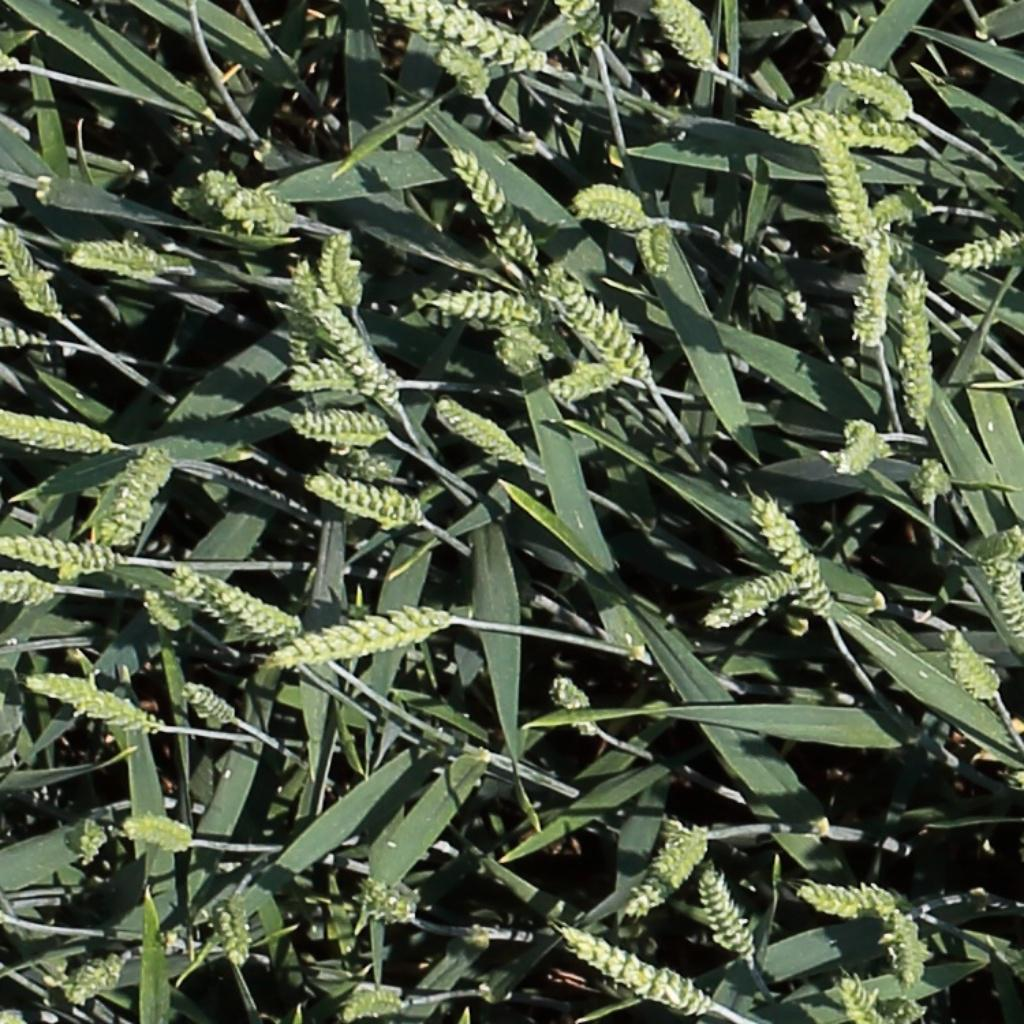0-0: (258, 605, 461, 675), (447, 137, 546, 275), (559, 924, 709, 1014), (305, 285, 408, 410), (386, 0, 550, 72), (548, 272, 655, 380), (755, 492, 841, 623), (172, 565, 296, 652), (174, 169, 318, 241), (85, 443, 172, 558), (622, 820, 715, 927), (755, 240, 834, 361), (0, 215, 64, 326), (692, 574, 802, 638), (816, 117, 875, 236), (897, 272, 940, 432), (27, 675, 154, 729), (741, 108, 920, 146), (699, 862, 761, 968), (854, 223, 937, 298), (846, 230, 897, 352), (827, 186, 941, 238), (438, 397, 525, 465), (307, 475, 423, 525), (199, 578, 297, 636), (422, 289, 561, 327), (194, 887, 252, 976), (62, 240, 190, 280), (797, 878, 910, 923), (0, 533, 126, 573), (823, 59, 914, 114), (943, 622, 1003, 705), (566, 180, 653, 235), (0, 407, 121, 446), (655, 0, 719, 73), (546, 363, 632, 411), (316, 225, 360, 313), (120, 811, 199, 859), (548, 673, 603, 738), (988, 552, 1022, 655), (941, 231, 1024, 272), (438, 39, 492, 99), (65, 954, 126, 1003), (333, 987, 417, 1022), (0, 568, 67, 611), (895, 902, 925, 993), (841, 417, 883, 479), (361, 880, 417, 925), (140, 587, 192, 634), (838, 970, 883, 1024), (638, 215, 674, 282), (182, 684, 237, 726), (292, 415, 385, 438), (559, 0, 606, 42), (0, 318, 56, 353), (917, 454, 953, 507), (76, 812, 106, 872), (289, 368, 357, 386), (0, 42, 23, 76)
